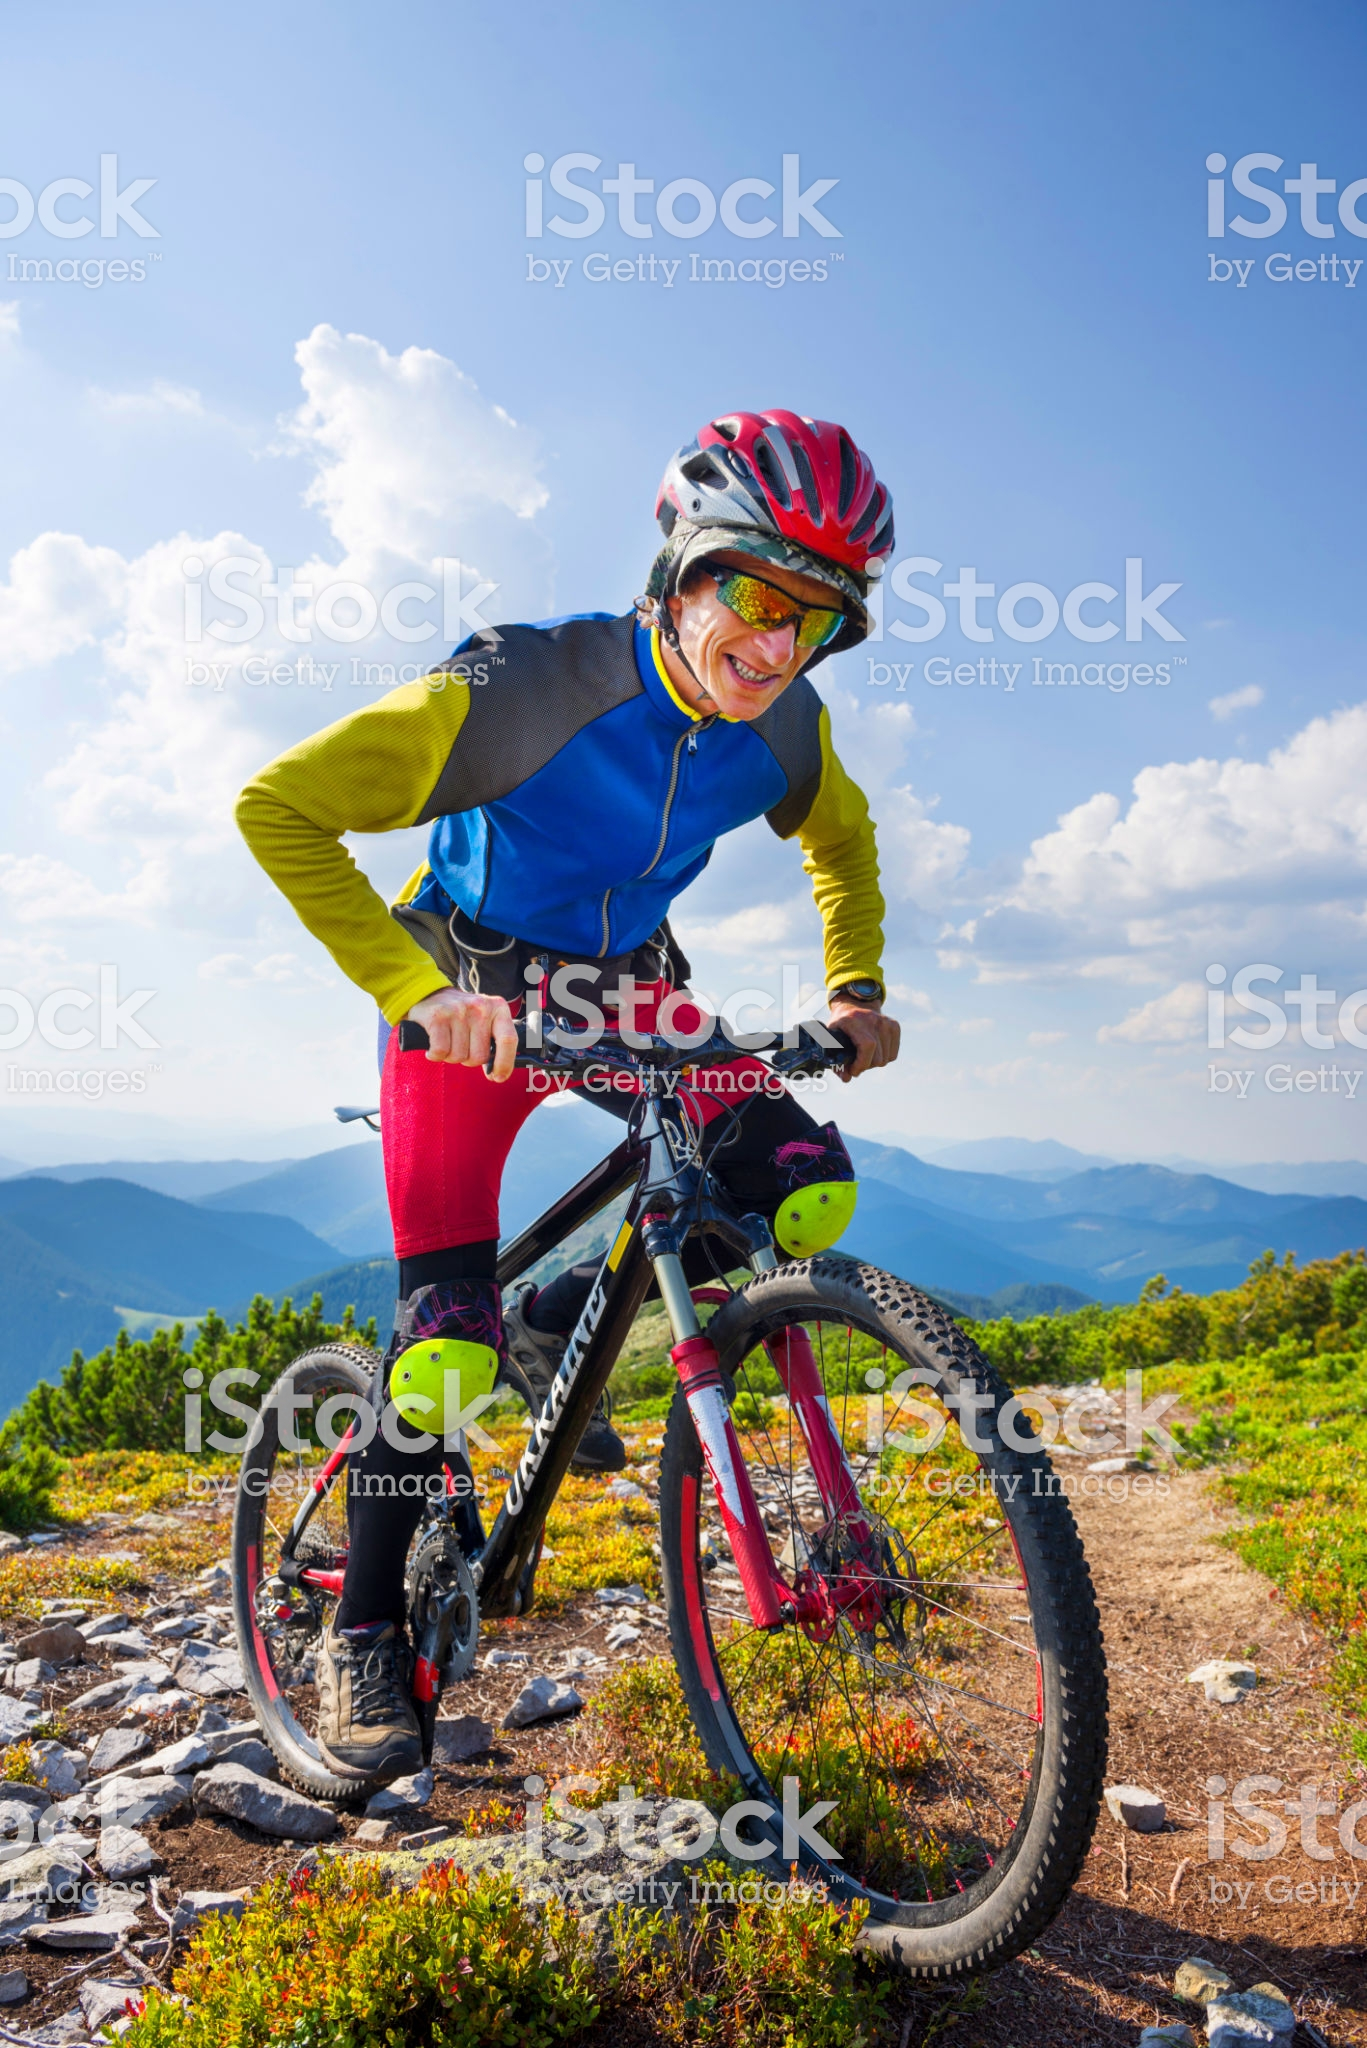helmet: (655, 416, 893, 605)
